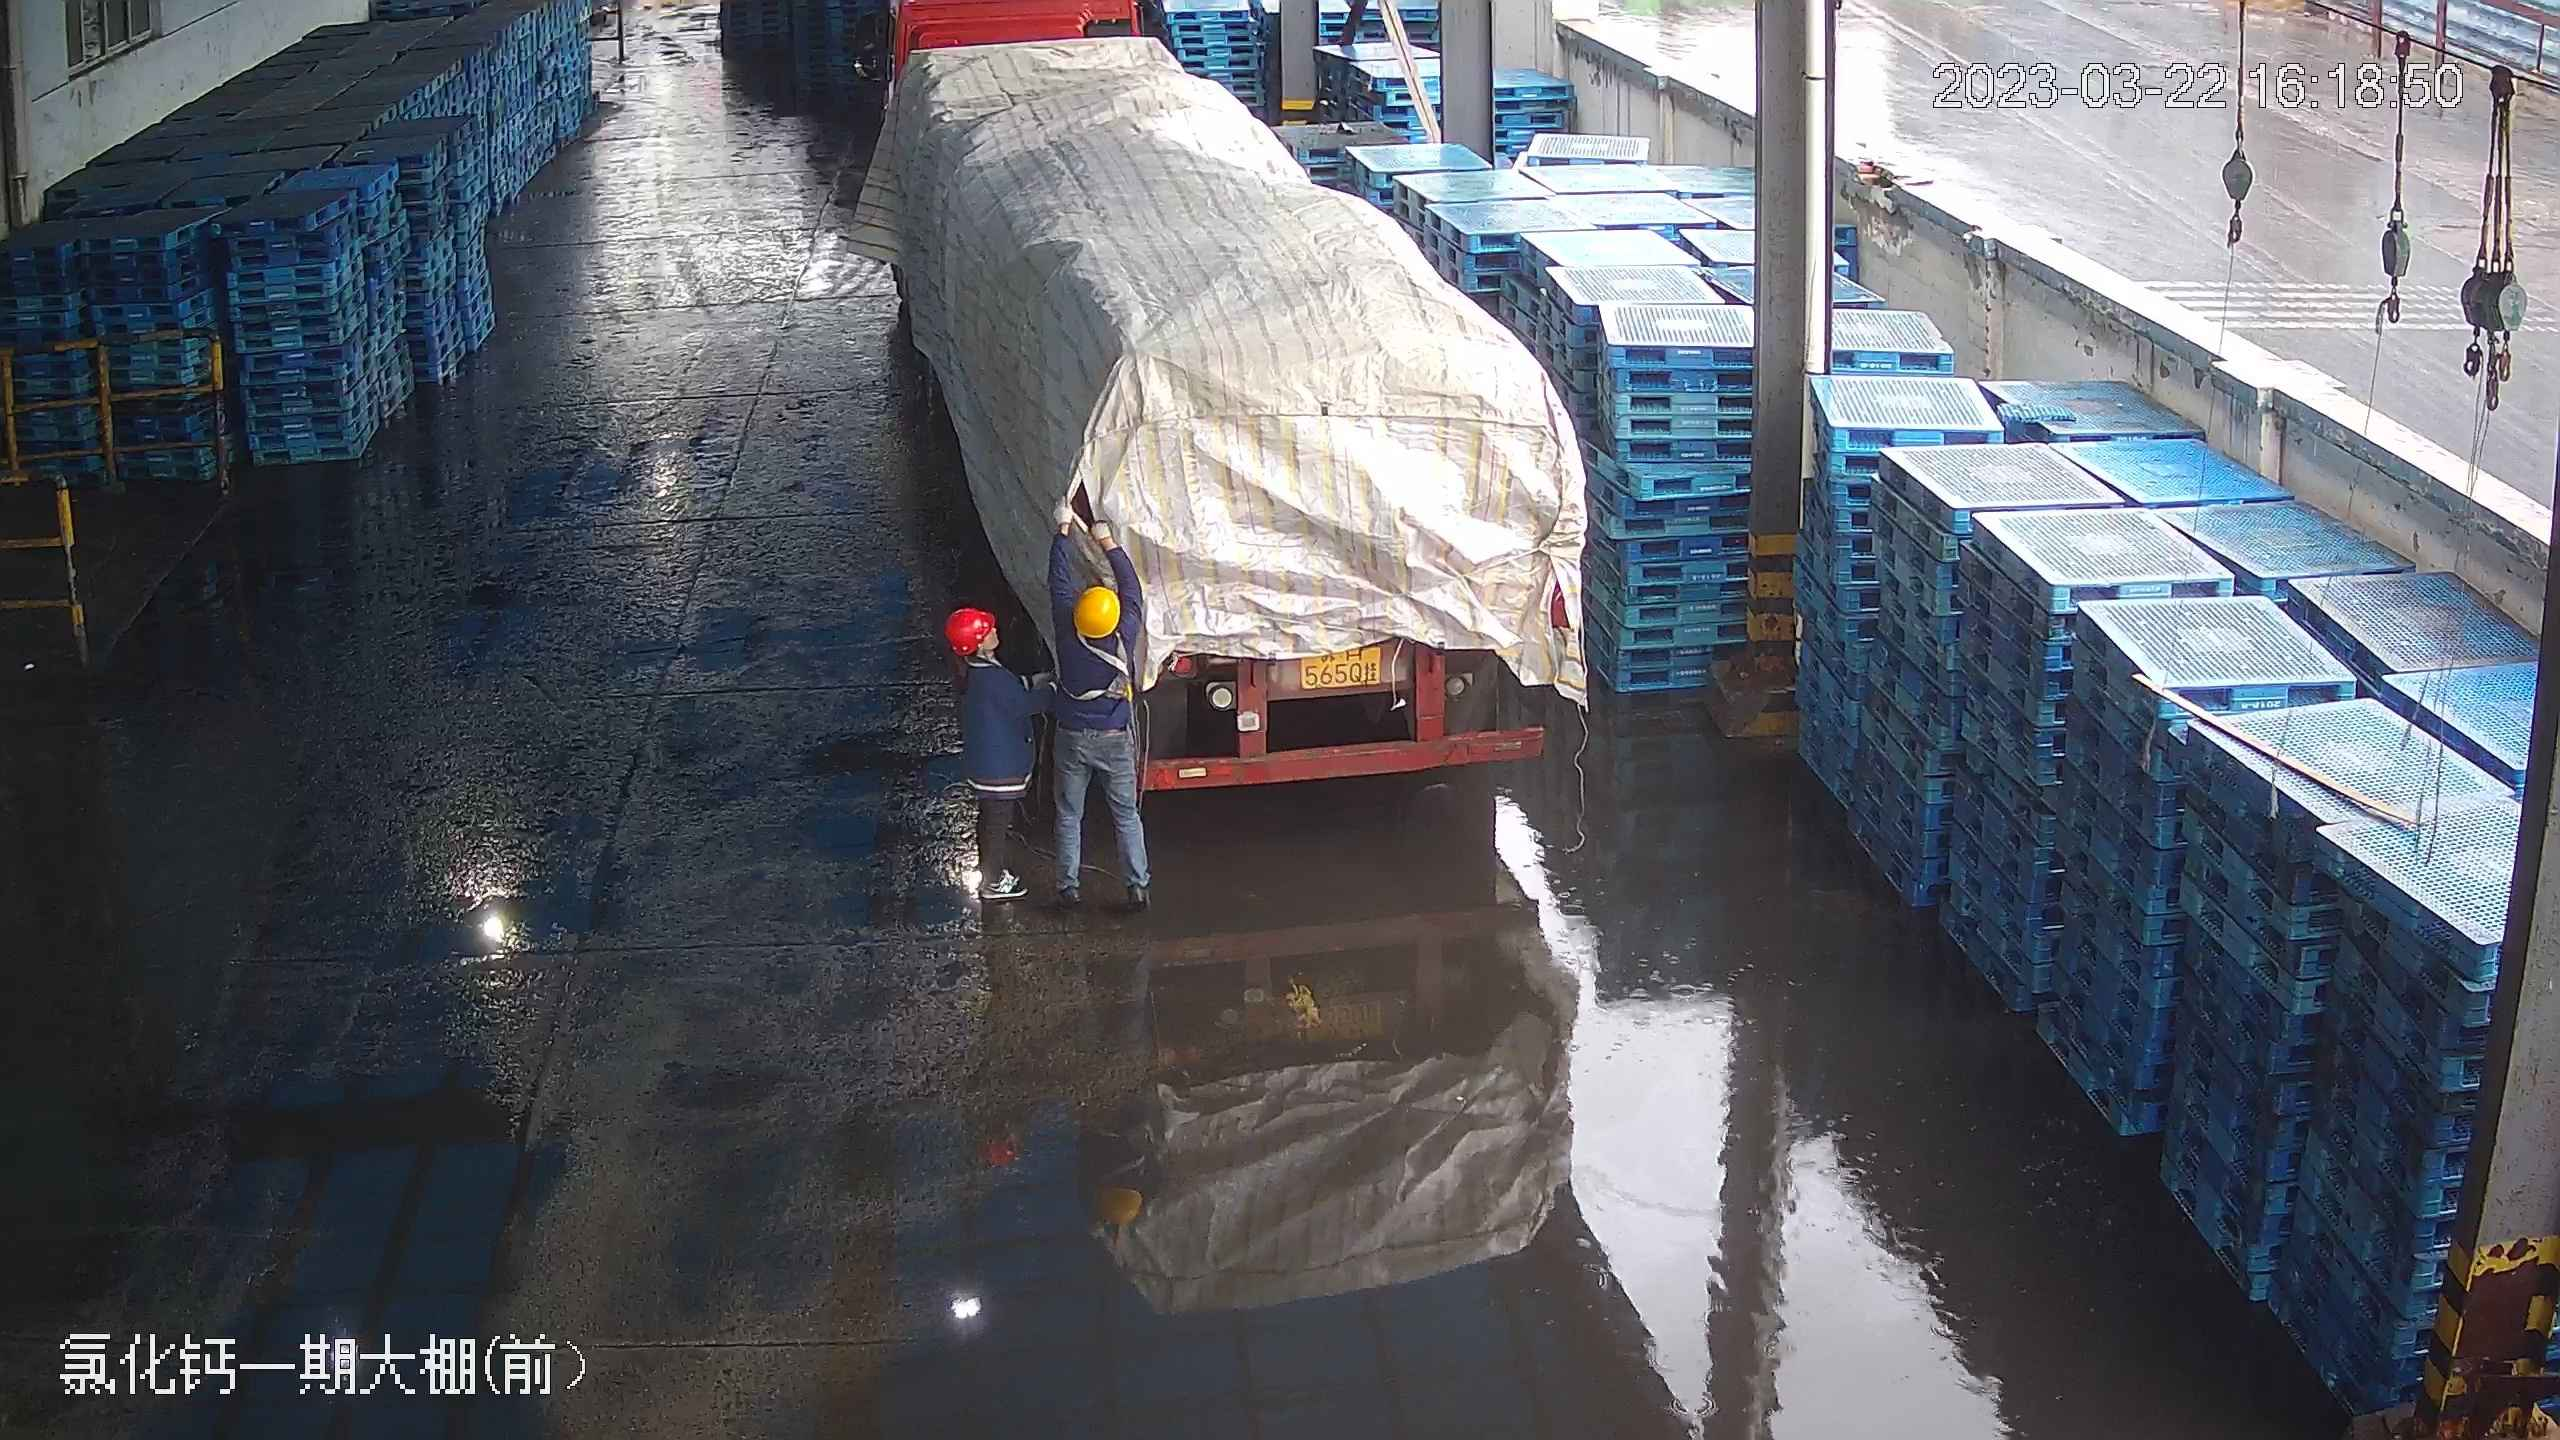belt: (1076, 639, 1145, 715)
head: (941, 604, 1025, 707), (1056, 585, 1133, 690)
helmet: (943, 603, 998, 649), (1075, 584, 1122, 633)
people: (939, 601, 1046, 912), (1049, 587, 1146, 908)
truck: (877, 4, 1612, 817)
